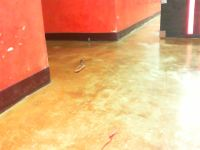switch: (187, 1, 195, 34)
